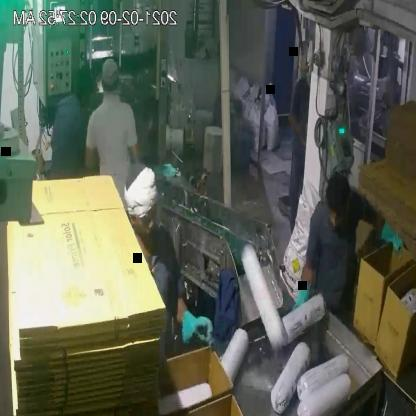glove: (176, 311, 219, 358), (376, 214, 412, 262), (284, 276, 319, 319), (287, 108, 309, 143)
